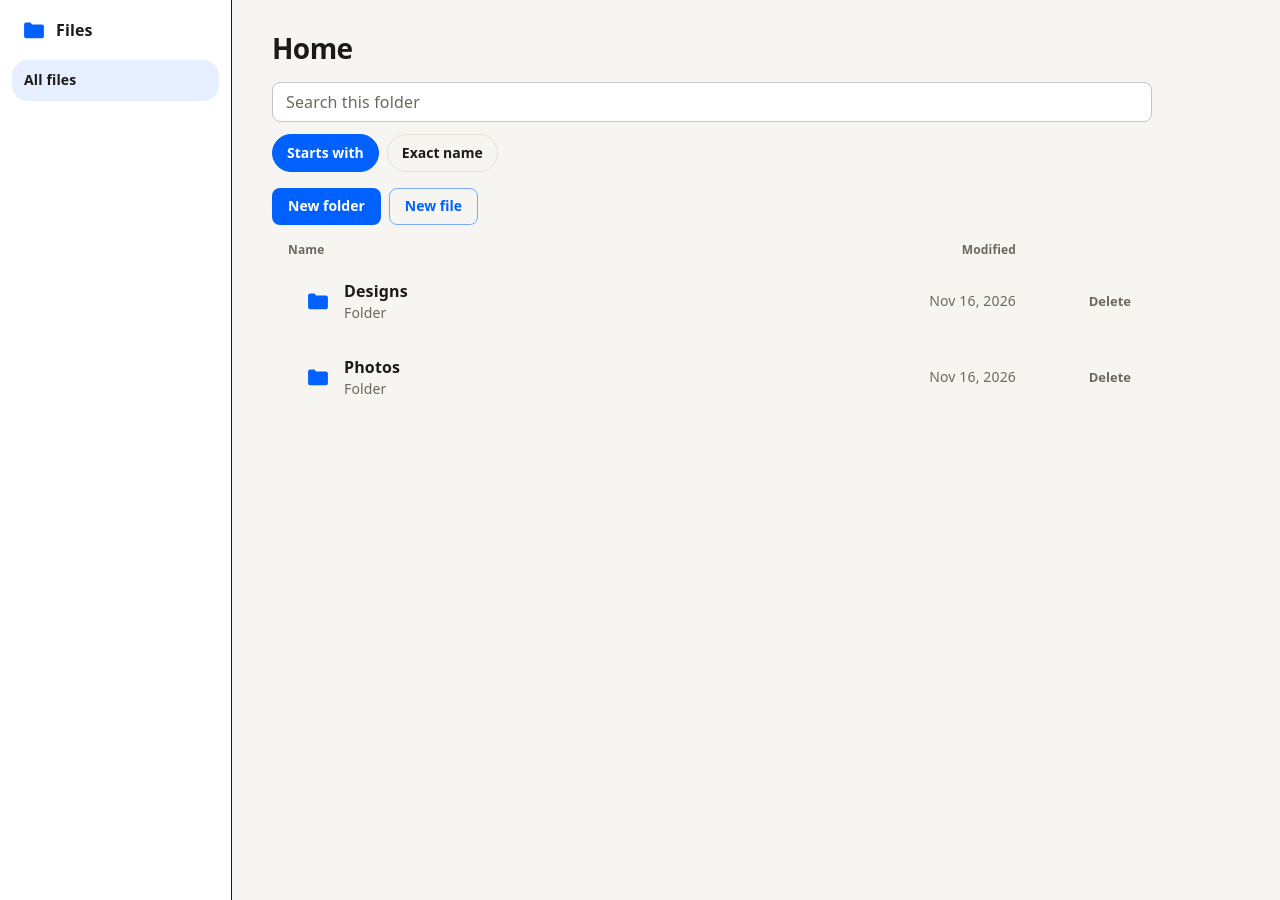
Test: delete › deletes a folder and the nodes inside it after the server confirms
The image size is (1280, 900).
Later steps or results of the test are not shown.
Click the button with aria-label "Delete Designs" at (1110, 301), box [1084,285,1136,316]
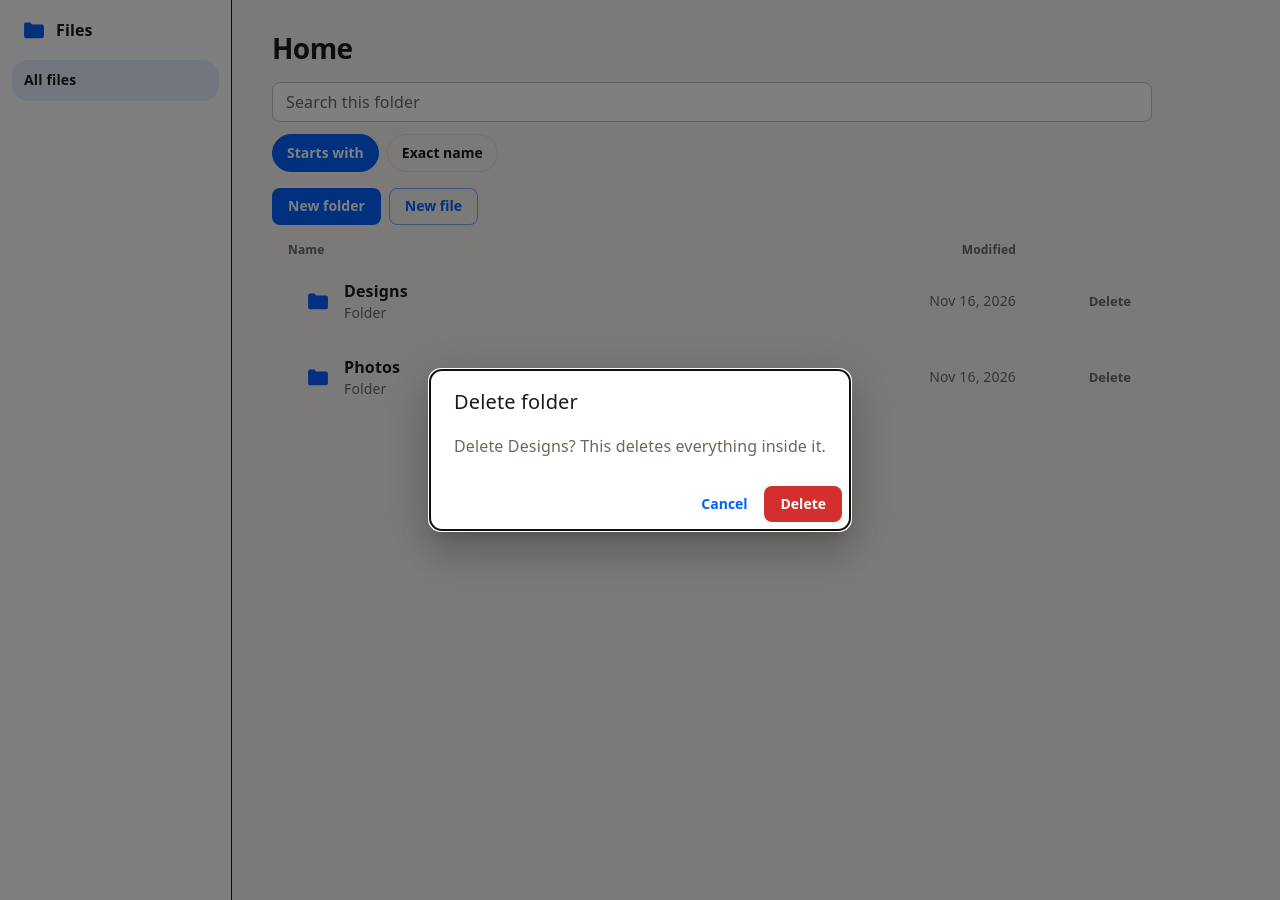
Expected: the text "Delete Designs? This deletes everything inside it." is shown, [454,434,826,458]
Click the button "Delete" at (803, 504), box [764,486,842,522]
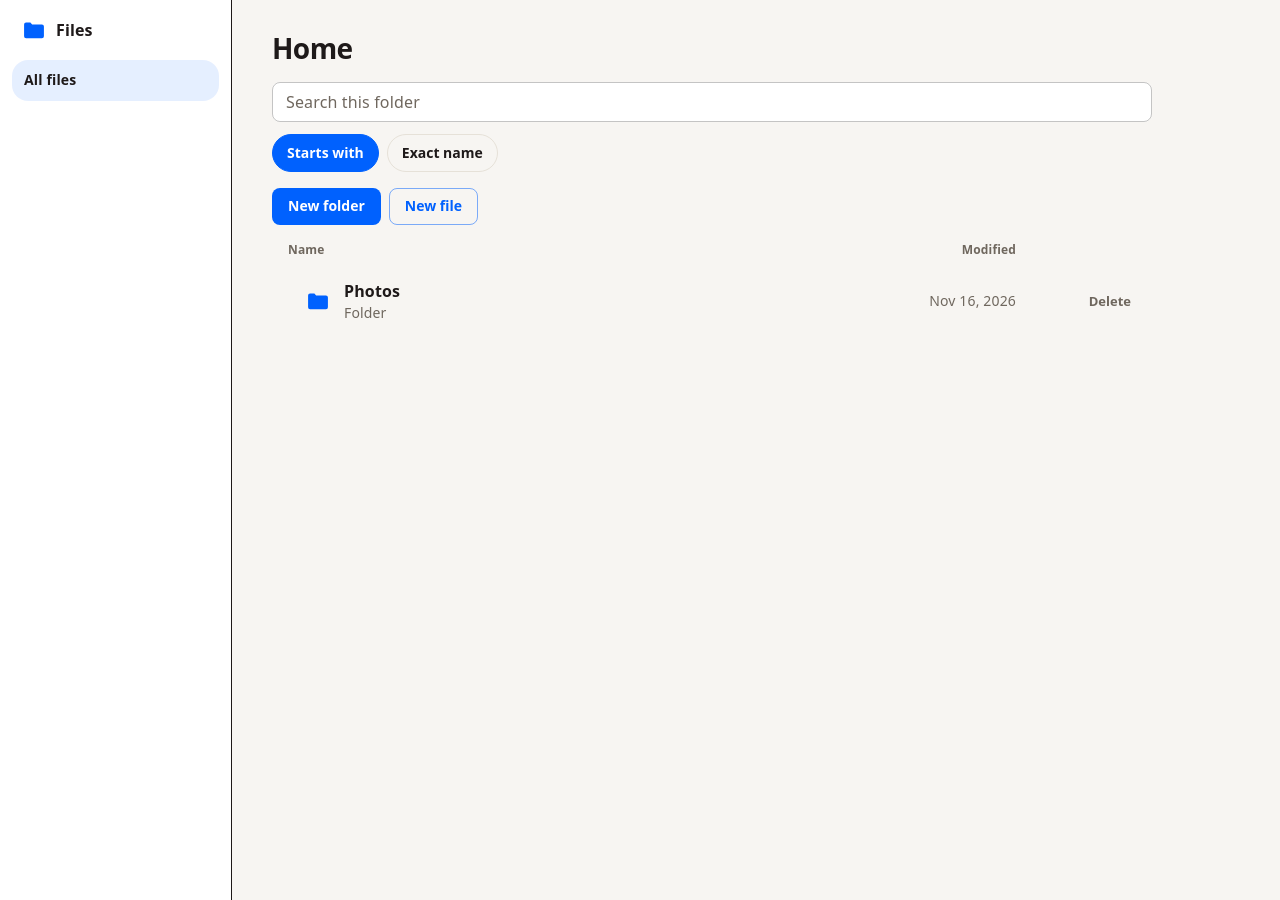
Expected: the link "Designs" is gone
